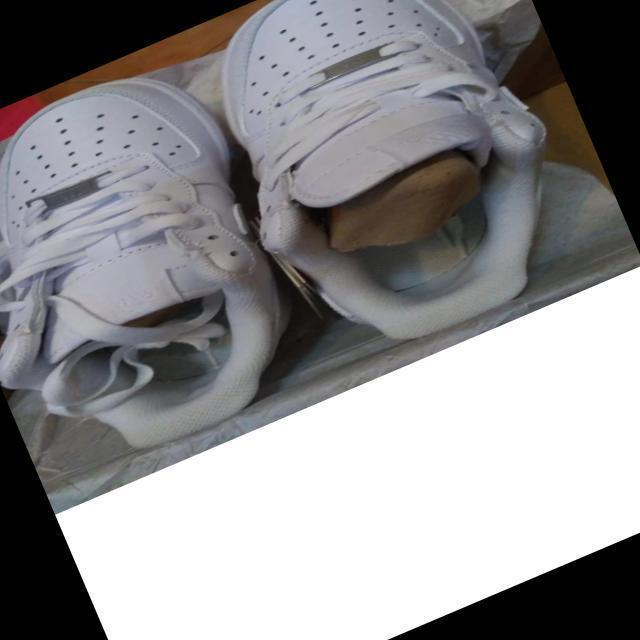nike original air force: (170, 0, 640, 394), (0, 30, 346, 506)
